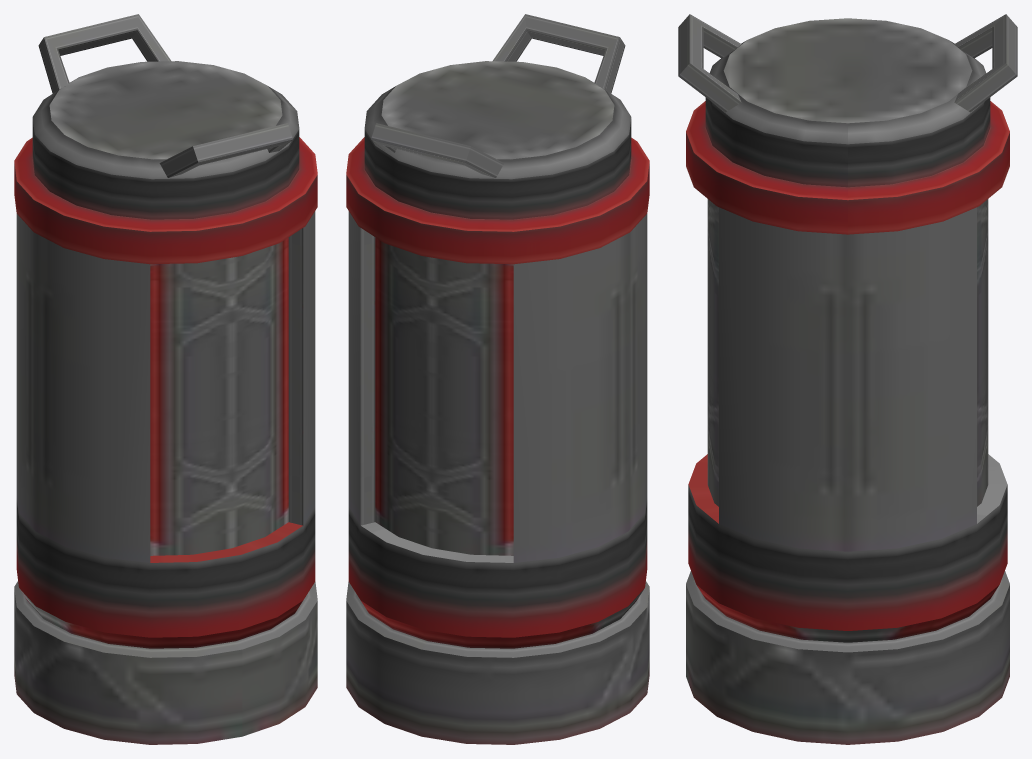
The model's file is prop_barrel_large.gltf.
The picture shows the model from 3 angles, left to right: view 1: azimuth 30°, elevation 25°; view 2: azimuth 150°, elevation 25°; view 3: azimuth 270°, elevation 25°; orthographic projection. The views are drawn at different scales.
Visible parts, largest first — view 1: Prop_Barrel_Large; view 2: Prop_Barrel_Large; view 3: Prop_Barrel_Large.
Boxes of the visible parts, x1=… form: Prop_Barrel_Large: x1=14, y1=14, x2=317, y2=744; Prop_Barrel_Large: x1=346, y1=14, x2=649, y2=744; Prop_Barrel_Large: x1=678, y1=14, x2=1017, y2=744.
Bounding box in the file's own units: 0.5078 × 1.1 × 0.532.
Materials: 2 (2 with a texture image).
